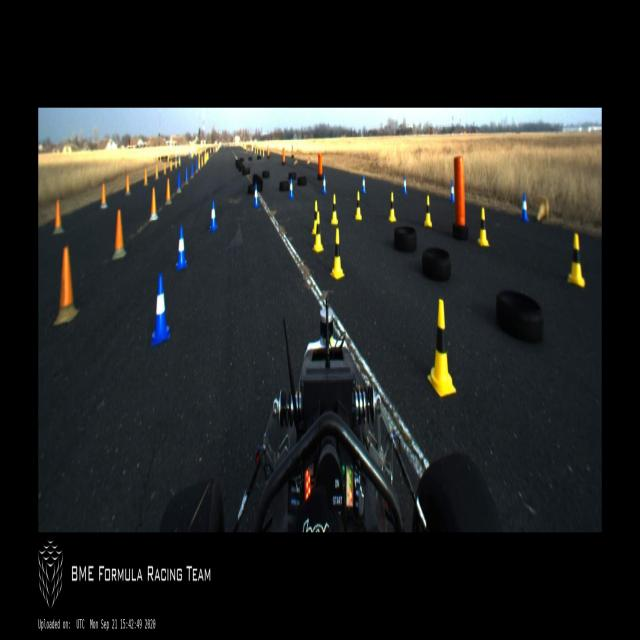blue_cone: (152, 275, 170, 347), (176, 225, 188, 272), (208, 200, 218, 231), (520, 193, 529, 223), (253, 185, 259, 208), (288, 177, 294, 198), (450, 182, 455, 203), (322, 174, 327, 194), (361, 174, 366, 194), (403, 175, 407, 194)
unknown_cone: (53, 246, 79, 326), (112, 211, 126, 261), (52, 198, 65, 236), (535, 192, 549, 223), (150, 188, 159, 220), (100, 182, 108, 210), (124, 175, 132, 196), (165, 179, 171, 204), (177, 171, 181, 193), (154, 165, 159, 180), (144, 168, 148, 185), (185, 165, 188, 184), (163, 162, 167, 175), (191, 162, 194, 178), (195, 158, 198, 172), (170, 160, 172, 172), (175, 157, 177, 168)
yellow_cone: (428, 300, 456, 397), (568, 233, 585, 288), (330, 229, 344, 279), (477, 209, 489, 246), (313, 212, 324, 252), (312, 200, 320, 234), (424, 194, 432, 227), (330, 194, 339, 223), (389, 192, 396, 222), (355, 191, 362, 220)
